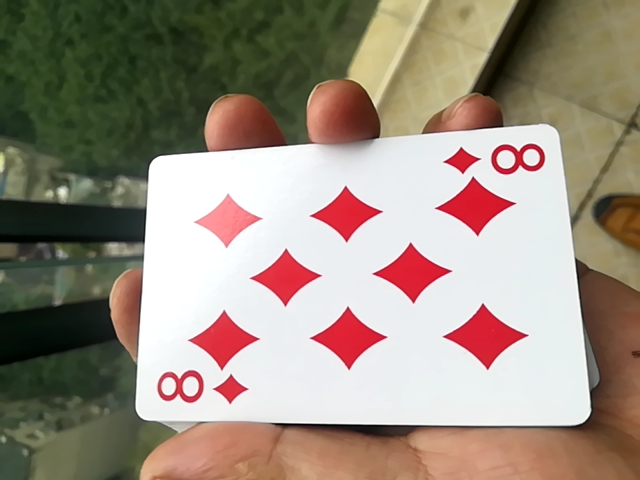fk 8: (118, 133, 576, 442)
